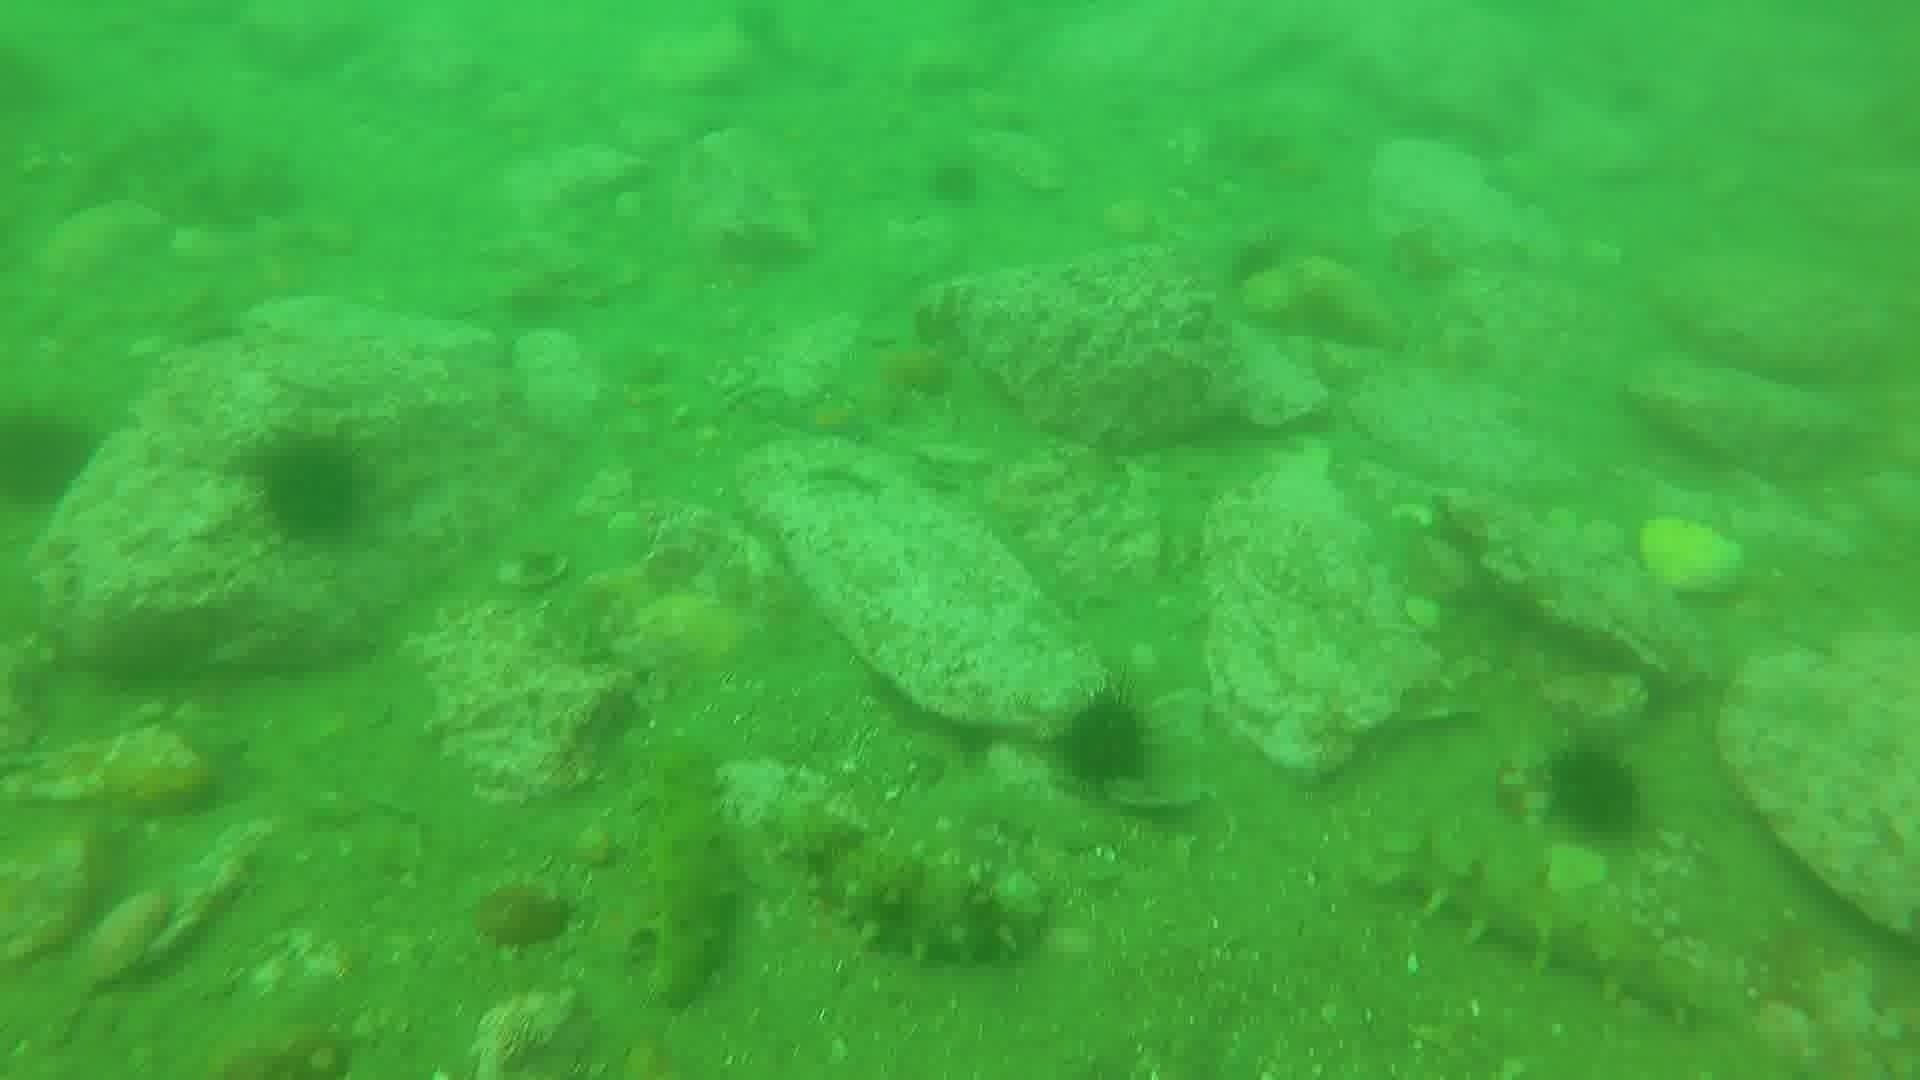echinus: (247, 426, 372, 549), (1051, 688, 1159, 796), (1539, 740, 1650, 845), (1, 402, 102, 514), (922, 154, 986, 212)
holothurian: (1369, 820, 1708, 1026), (796, 824, 1044, 971), (632, 749, 748, 1011)
starfish: (34, 196, 174, 293)
